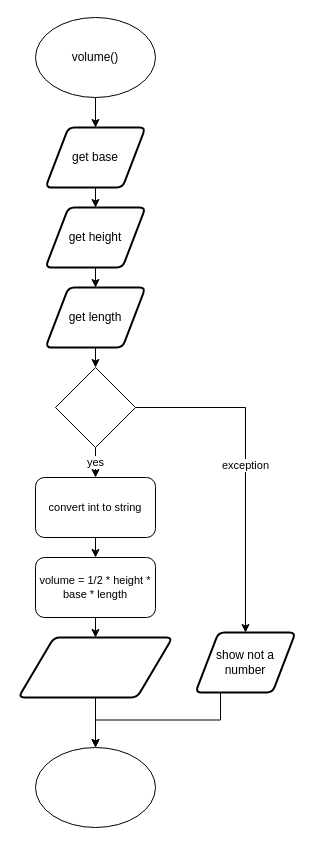
The diagram is 313 pixels wide and 845 high, and some of its shapes have lost their labels. The centre of each missing label's shape, as x and y in pixels:
show volume: the point at 95,667
stop: the point at 95,787
try: the point at 95,407
